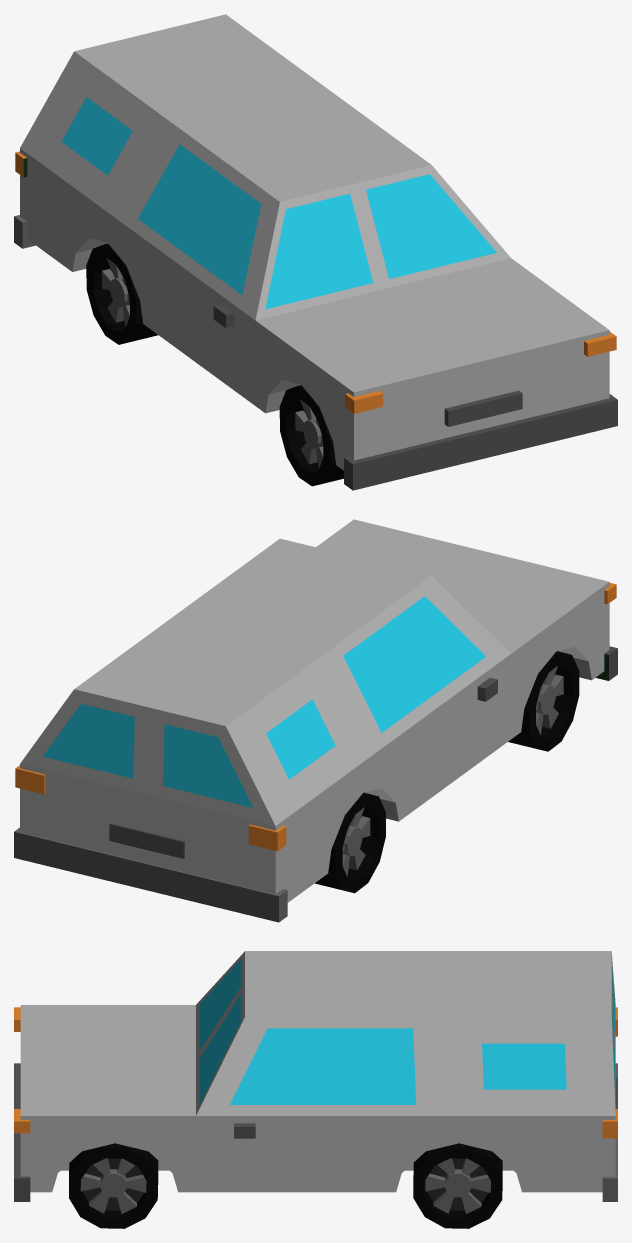
Rendered from AutoBlanco.fbx.
The picture shows the model from 3 angles, top to bottom: view 1: azimuth 30°, elevation 25°; view 2: azimuth 150°, elevation 25°; view 3: azimuth 270°, elevation 25°; orthographic projection. The views are drawn at different scales.
Parts seen in each view (by area): view 1: WhiteCar; view 2: WhiteCar; view 3: WhiteCar.
Boxes of the visible parts, <box> form: WhiteCar: <box>14,14,617,490</box>; WhiteCar: <box>14,519,617,922</box>; WhiteCar: <box>14,951,617,1228</box>.
Bounding box in the file's own units: 213 × 160 × 459.
